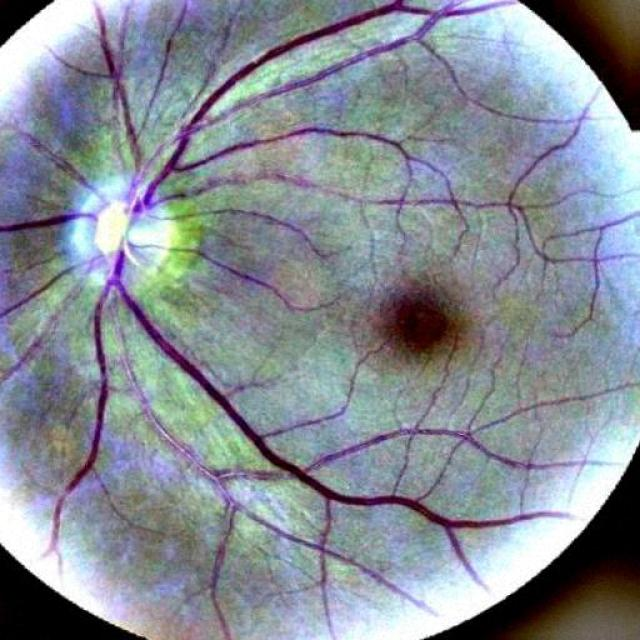Macula: (352, 275, 467, 353)
Nerves: (47, 9, 412, 555), (7, 130, 112, 203), (7, 213, 95, 236)
Optic Disk: (65, 176, 174, 290)
